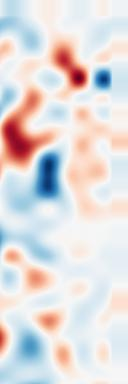filament: (0, 90, 54, 171)
